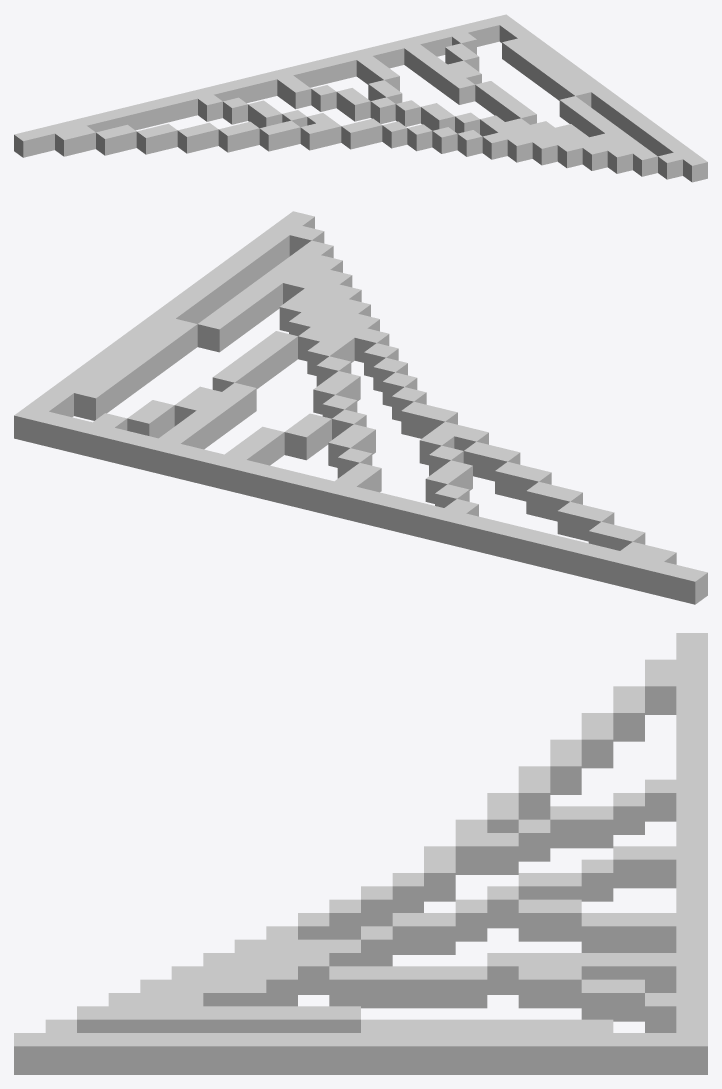
File: cobwebs 2.obj
The picture shows the model from 3 angles, top to bottom: view 1: azimuth 30°, elevation 25°; view 2: azimuth 150°, elevation 25°; view 3: azimuth 270°, elevation 25°; orthographic projection. The views are drawn at different scales.
Size of the model in its own units: 3.1 by 0.1 by 2.2.
Materials: 1 (1 with a texture image).
